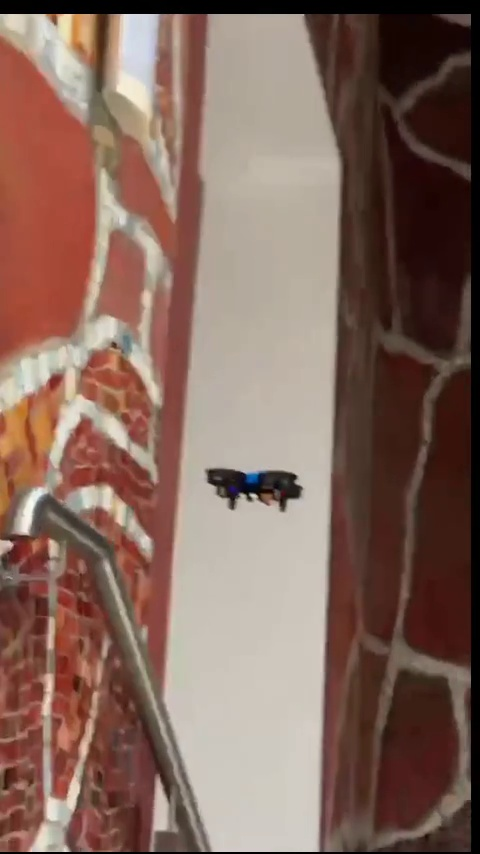drone: (209, 469, 299, 512)
